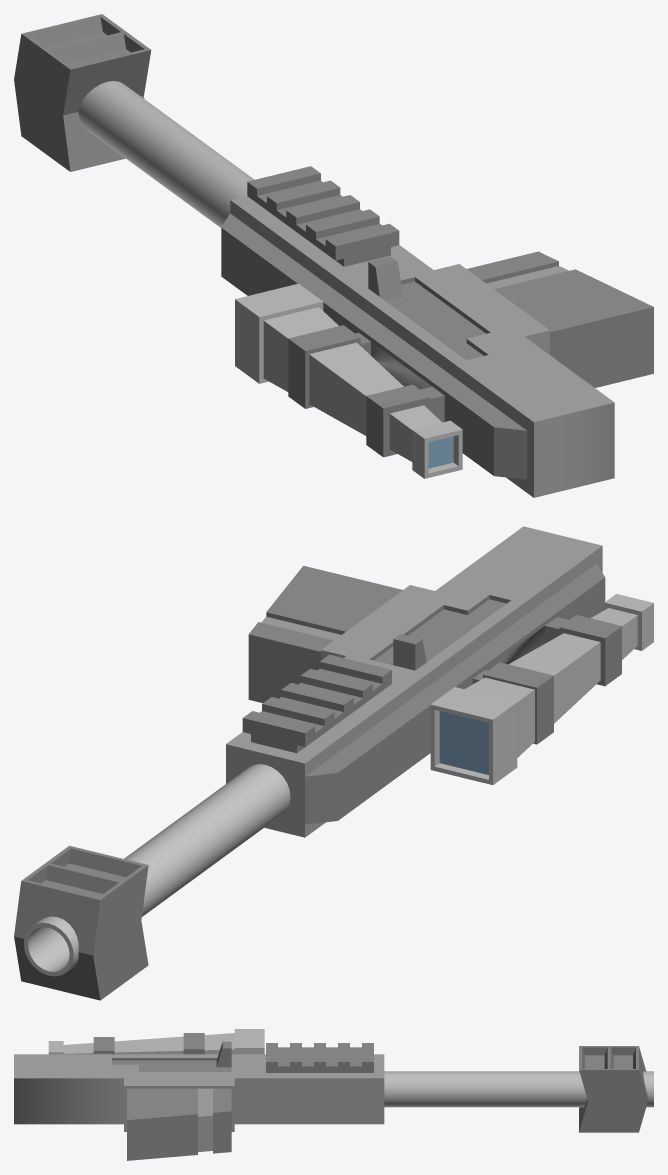
File: GEAR_SNIPER.fbx
The picture shows the model from 3 angles, top to bottom: view 1: azimuth 30°, elevation 25°; view 2: azimuth 150°, elevation 25°; view 3: azimuth 270°, elevation 25°; orthographic projection. The views are drawn at different scales.
Parts seen in each view (by area): view 1: sniper; view 2: sniper; view 3: sniper.
Part boxes in pixels (x1,y1,x2,y2): sniper: (14,14,653,497); sniper: (14,526,653,1000); sniper: (14,1029,653,1160).
Size of the model in its own units: 1381 by 499 by 4099.
